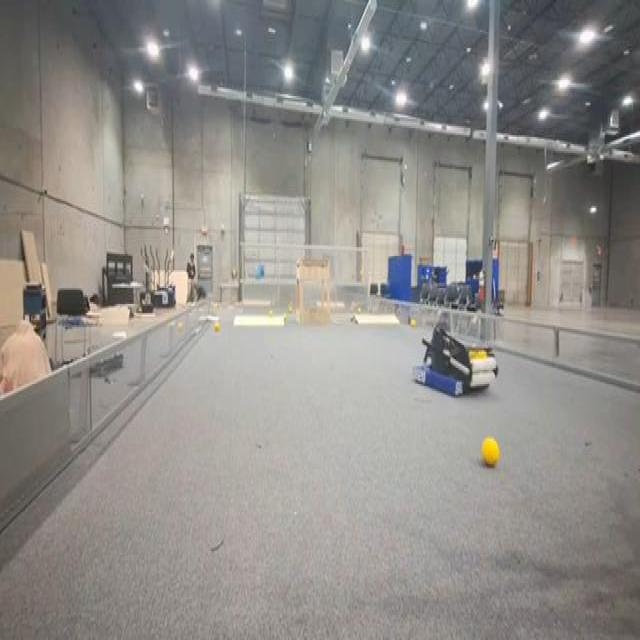Fuel: (481, 437, 499, 466), (177, 322, 184, 331), (214, 322, 220, 332), (178, 322, 184, 331), (214, 322, 219, 331), (410, 318, 415, 326)
